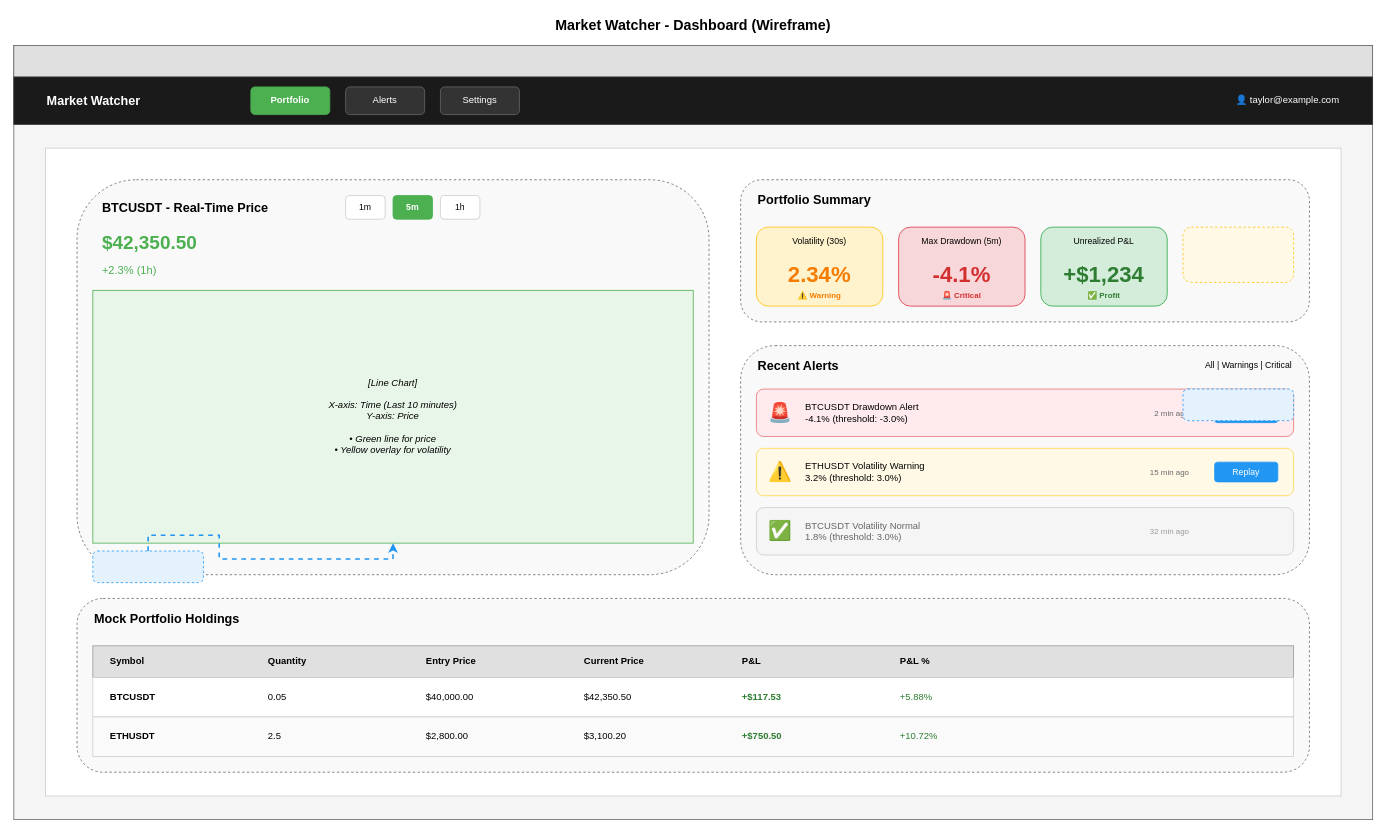
Some shapes in this 1386 by 833 pixel diagram are drawn without their labels. The shapes that lost their labels are listed below. From the top down, each one's centre as x and y in pixels, then its label:
At point (693, 61): "https://market-watcher.url.com".
At point (1238, 254): "Color-coded severity: Green = OK Yellow = Warning Red = Critical".
At point (1238, 404): "Replay shows ±5 min around alert timestamp".
At point (147, 566): "Real-time updates via SSE (500ms interval)".
